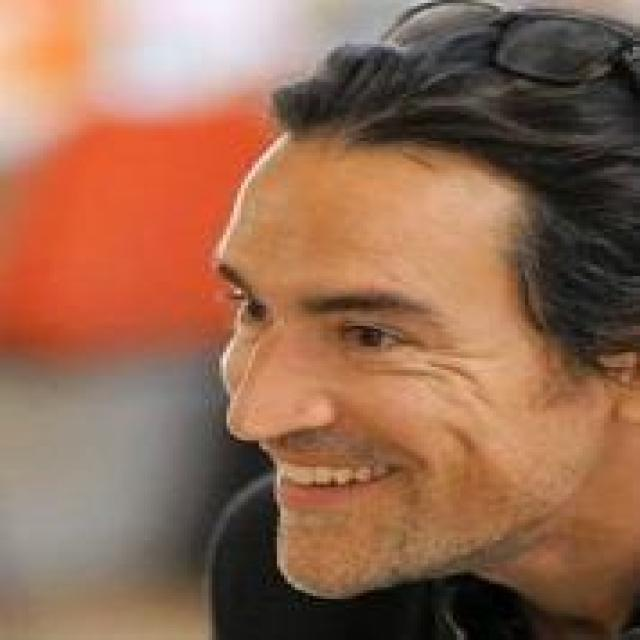bareface: (203, 37, 640, 612)
